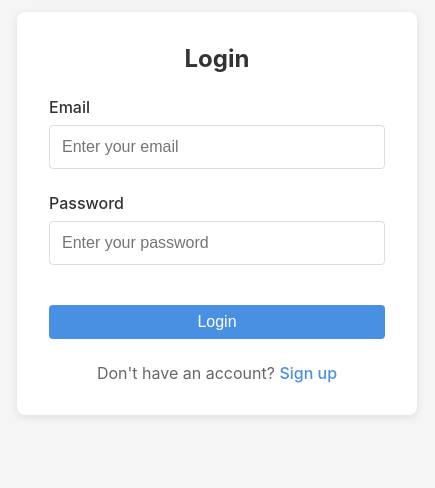
Test case: Login Component › should clear error when input changes
Trigger error
Type "test@example.com" into the field labelled "Email" at (217,146), box [49, 124, 385, 168]
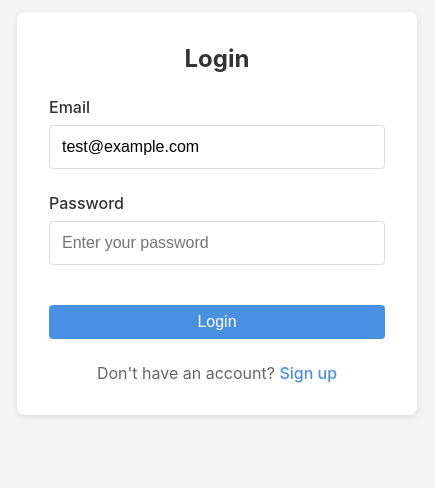
Type "wrong" into the password field labelled "Password" at (217,242), box [49, 220, 385, 264]
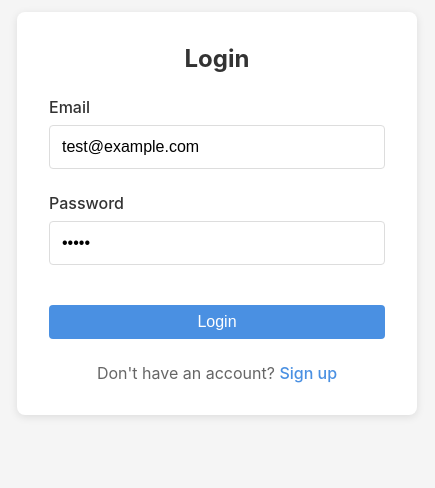
Click the button "Login" at (217,322), box [49, 304, 385, 338]
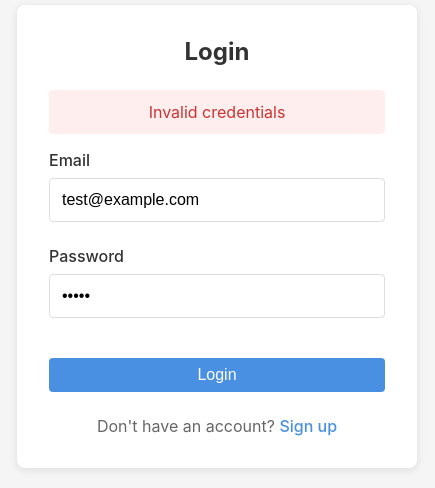
Result: the text "Invalid credentials" is shown at [49, 90, 385, 134]
Change input should clear error
Replace the text in the field labelled "Email" with "new@example.com" at (217,200), box [49, 178, 385, 222]
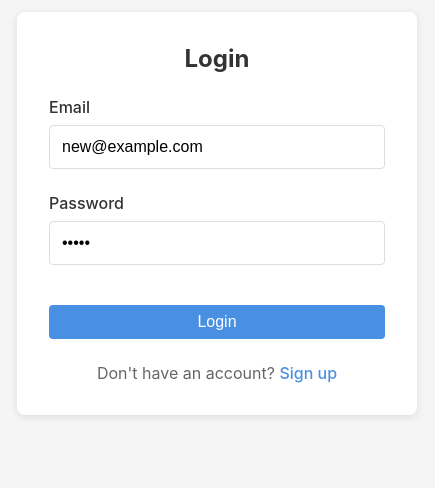
Result: the text "Invalid credentials" is gone
